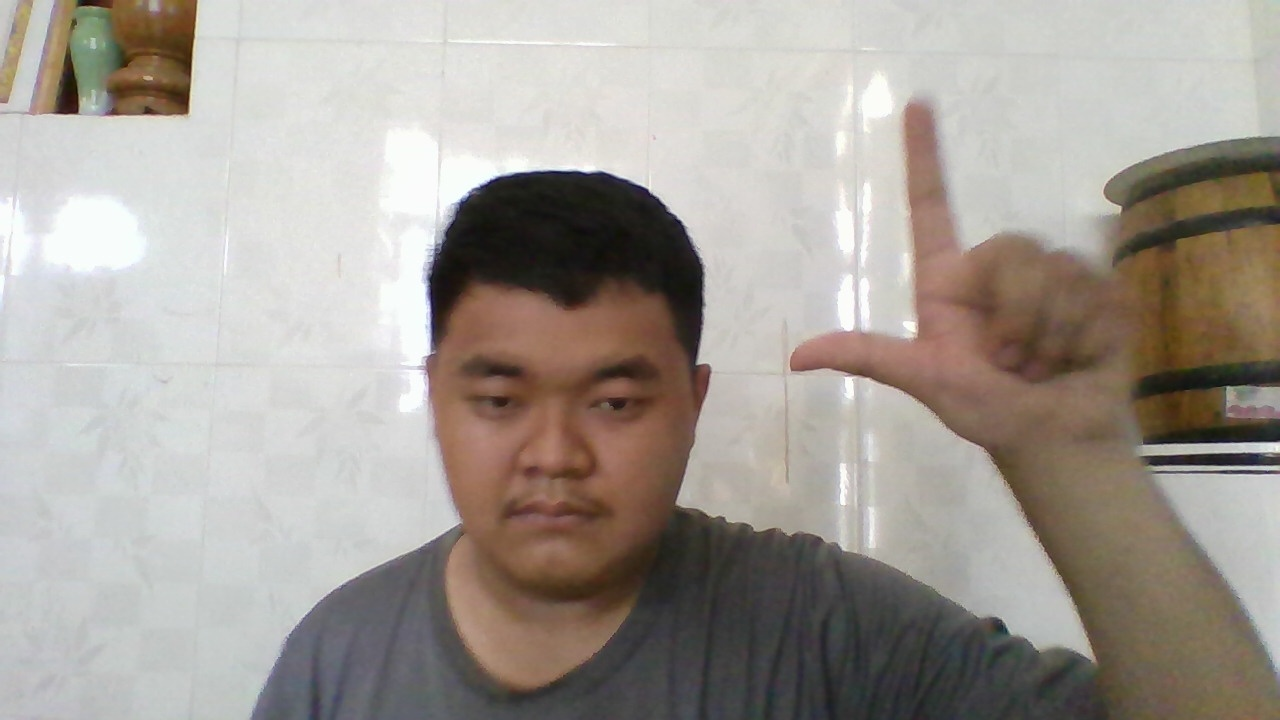L: (790, 97, 1114, 451)
